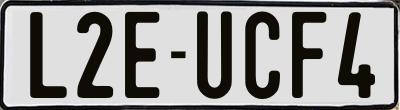2: (76, 12, 117, 100)
4: (337, 12, 380, 101)
C: (242, 8, 281, 96)
E: (125, 11, 160, 102)
F: (289, 12, 325, 103)
L: (28, 12, 67, 101)
U: (194, 9, 229, 101)
